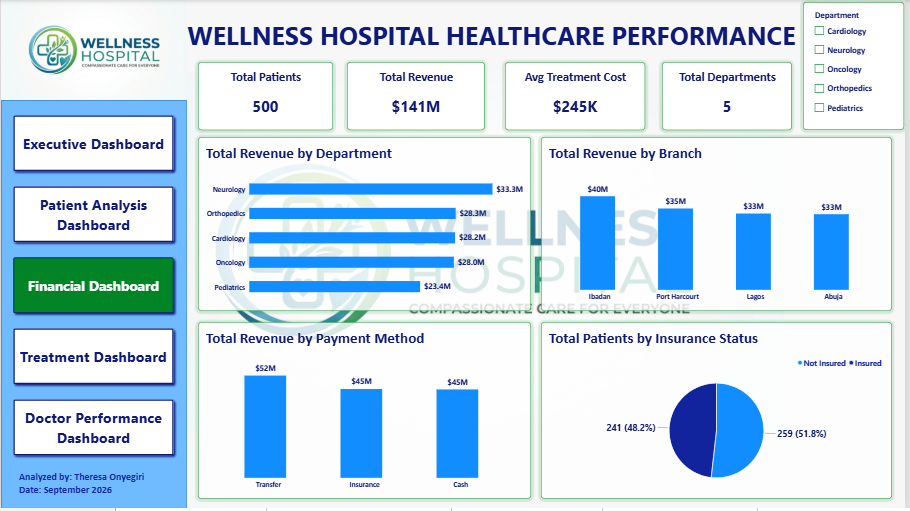

The page's visual inventory and layout, read from the dashboard file:
{"tool":"powerbi","page":{"name":"Financial Dashboard","canvas":[1920,1080],"ordinal":2},"visuals":[{"type":"shape","box":[0,212.6,395.3,868.3],"z":0},{"type":"image","box":[0,0,395.3,211.7],"z":1000},{"type":"textbox","box":[335.9,0,1413.7,120.1],"z":2000},{"type":"pageNavigator","box":[17,236,359.3,742],"z":3000},{"type":"clusteredBarChart","fields":{"Category":["Table1.Department"],"Y":["Table1.Total Revenue"]},"box":[418.8,291.3,708,369.9],"z":4000},{"type":"clusteredColumnChart","title":"Total Revenue by Branch","fields":{"Y":["Table1.Total Revenue"],"Category":["Table1.Hospital_Branch"]},"box":[1148,291.3,746.2,369.9],"z":5000},{"type":"columnChart","title":"Total Revenue by Payment Method","fields":{"Y":["Table1.Total Revenue"],"Category":["Table1.Payment_Method"]},"box":[418.8,684.6,708,376.3],"z":6000},{"type":"pieChart","title":"Total Patients by Insurance Status","fields":{"Category":["Table1.Insurance_Status"],"Y":["Table1.Total Patients"]},"box":[1148,684.6,746.2,376.3],"z":7000},{"type":"slicer","fields":{"Values":["Table1.Department"]},"box":[1705,4.3,214.7,272.1],"z":8000},{"type":"card","title":"Total Patients","fields":{"Values":["Table1.Total Patients"]},"box":[418.8,131.8,287,144.6],"z":9000},{"type":"card","title":"Total Revenue","fields":{"Values":["Table1.Total Revenue"]},"box":[735.6,131.8,293.4,144.6],"z":10000},{"type":"card","title":"Avg Treatment Cost","fields":{"Values":["Table1.Avg Treatment Cost"]},"box":[1071.5,131.8,297.6,144.6],"z":11000},{"type":"card","title":"Total Departments","fields":{"Values":["Table1.Total Departments"]},"box":[1405.3,131.8,276.4,144.6],"z":12000},{"type":"textbox","box":[38.3,1001.3,312.5,78.7],"z":12001}]}

Visuals, with their boxes in screenshot pixels (x1, y1, x2, y2), scaled from the page's 1920x1080 canvas onto the 910x511 screenshot:
shape: rect(0, 101, 187, 510)
image: rect(0, 0, 187, 100)
textbox: rect(159, 0, 829, 57)
pageNavigator: rect(8, 112, 178, 463)
clusteredBarChart - Table1.Department x Table1.Total Revenue: rect(198, 138, 534, 313)
"Total Revenue by Branch" clusteredColumnChart: rect(544, 138, 898, 313)
"Total Revenue by Payment Method" columnChart: rect(198, 324, 534, 502)
"Total Patients by Insurance Status" pieChart: rect(544, 324, 898, 502)
slicer - Table1.Department: rect(808, 2, 909, 131)
"Total Patients" card: rect(198, 62, 335, 131)
"Total Revenue" card: rect(349, 62, 488, 131)
"Avg Treatment Cost" card: rect(508, 62, 649, 131)
"Total Departments" card: rect(666, 62, 797, 131)
textbox: rect(18, 474, 166, 510)
